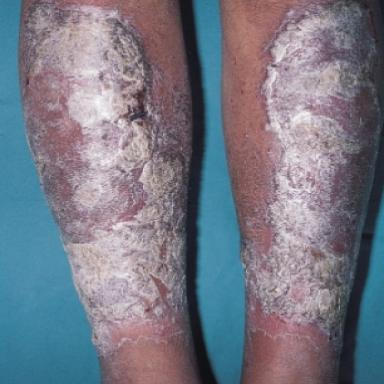Psoriasis: (21, 0, 191, 357), (243, 0, 379, 350)
